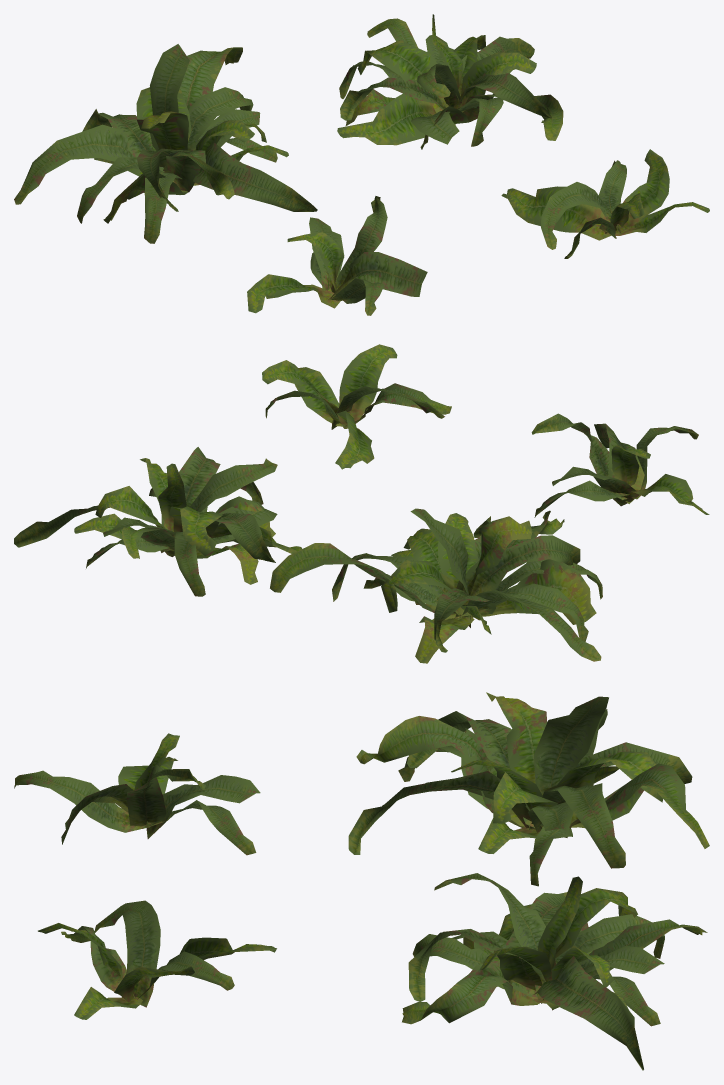
File: fern_02.glb
The picture shows the model from 3 angles, top to bottom: view 1: azimuth 30°, elevation 25°; view 2: azimuth 150°, elevation 25°; view 3: azimuth 270°, elevation 25°; orthographic projection. The views are drawn at different scales.
Parts seen in each view (by area): view 1: fern_02_b, fern_02_c, fern_02_d, fern_02_a; view 2: fern_02_b, fern_02_c, fern_02_d, fern_02_a; view 3: fern_02_b, fern_02_c, fern_02_a, fern_02_d.
Part boxes in pixels (x1,y1,x2,y2): fern_02_b: [14, 44, 317, 243]; fern_02_c: [337, 14, 563, 149]; fern_02_d: [501, 149, 709, 258]; fern_02_a: [247, 196, 427, 315]; fern_02_b: [270, 508, 602, 663]; fern_02_c: [14, 447, 301, 596]; fern_02_d: [262, 344, 451, 469]; fern_02_a: [531, 413, 709, 517]; fern_02_b: [348, 692, 709, 886]; fern_02_c: [402, 873, 707, 1070]; fern_02_a: [14, 733, 260, 855]; fern_02_d: [38, 900, 276, 1019].
Size of the model in its own units: 1.97 by 0.4277 by 1.72.
Materials: 1 (1 with a texture image).
